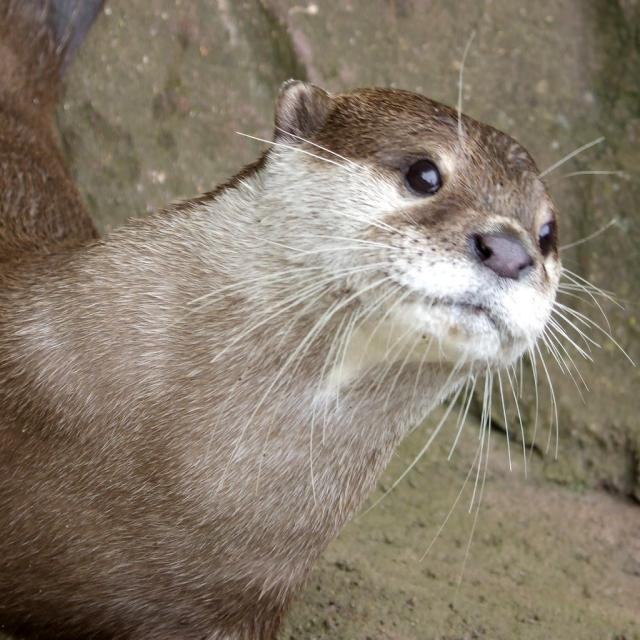otter: (1, 82, 562, 640)
